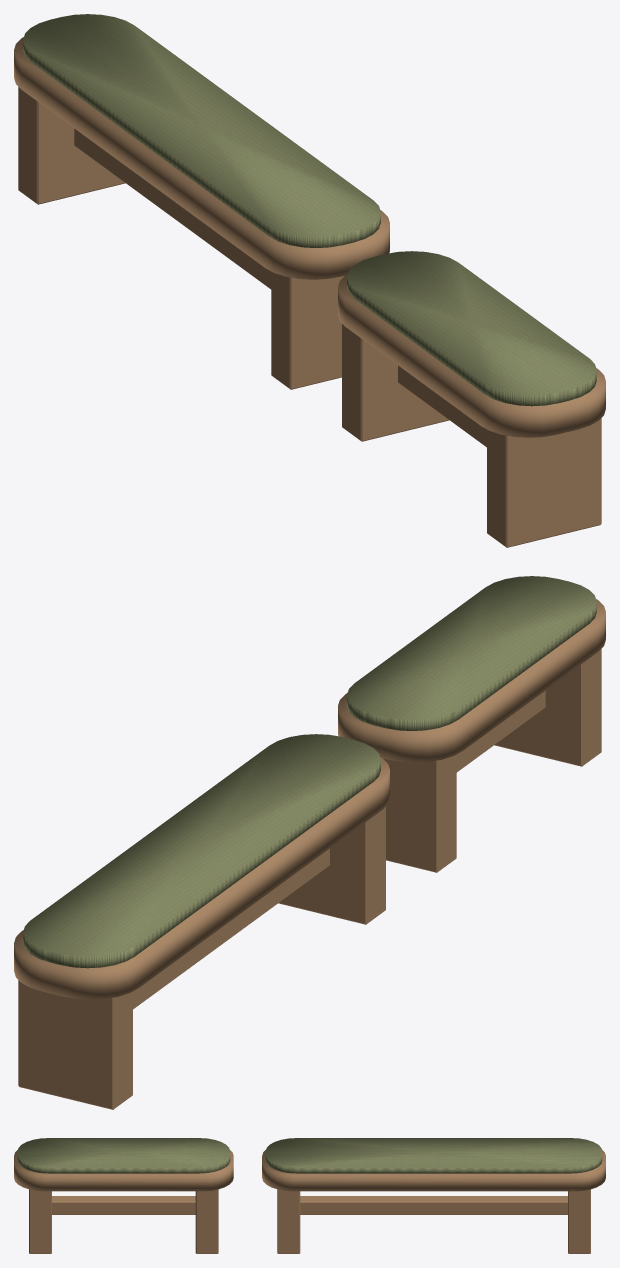
File: yokocho-oden-bench-set.glb
The picture shows the model from 3 angles, top to bottom: view 1: azimuth 30°, elevation 25°; view 2: azimuth 150°, elevation 25°; view 3: azimuth 270°, elevation 25°; orthographic projection. The views are drawn at different scales.
Parts seen in each view (by area): view 1: Shops/S03/Personality/OdenBenches__Food_Chestnut, Shops/S03/Personality/OdenBenches__Food_Upholstery, Shops/S03/Personality/OdenBenches__DarkTimber; view 2: Shops/S03/Personality/OdenBenches__Food_Chestnut, Shops/S03/Personality/OdenBenches__Food_Upholstery, Shops/S03/Personality/OdenBenches__DarkTimber; view 3: Shops/S03/Personality/OdenBenches__Food_Upholstery, Shops/S03/Personality/OdenBenches__Food_Chestnut, Shops/S03/Personality/OdenBenches__DarkTimber.
Part boxes in pixels (x1,y1,x2,y2): Shops/S03/Personality/OdenBenches__Food_Chestnut: (14,37,605,547); Shops/S03/Personality/OdenBenches__Food_Upholstery: (23,14,596,406); Shops/S03/Personality/OdenBenches__DarkTimber: (74,128,486,447); Shops/S03/Personality/OdenBenches__Food_Chestnut: (14,599,605,1109); Shops/S03/Personality/OdenBenches__Food_Upholstery: (23,576,596,968); Shops/S03/Personality/OdenBenches__DarkTimber: (133,690,545,1009); Shops/S03/Personality/OdenBenches__Food_Upholstery: (17,1138,602,1173); Shops/S03/Personality/OdenBenches__Food_Chestnut: (14,1150,605,1253); Shops/S03/Personality/OdenBenches__DarkTimber: (52,1196,567,1214).
Bounding box in the file's own units: 0.44 × 0.549 × 3.34.
Materials: 3 (1 with a texture image).
